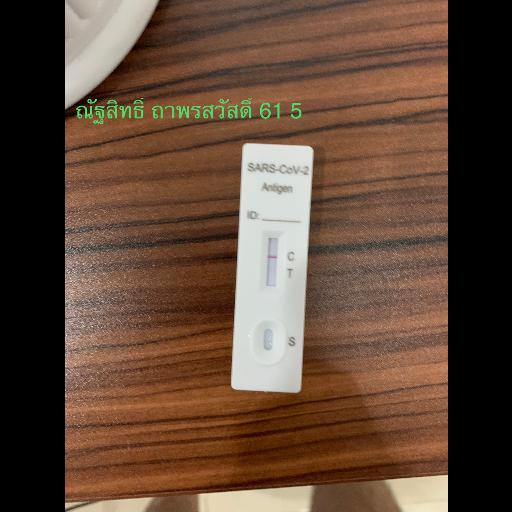Neg: (230, 143, 316, 394)
